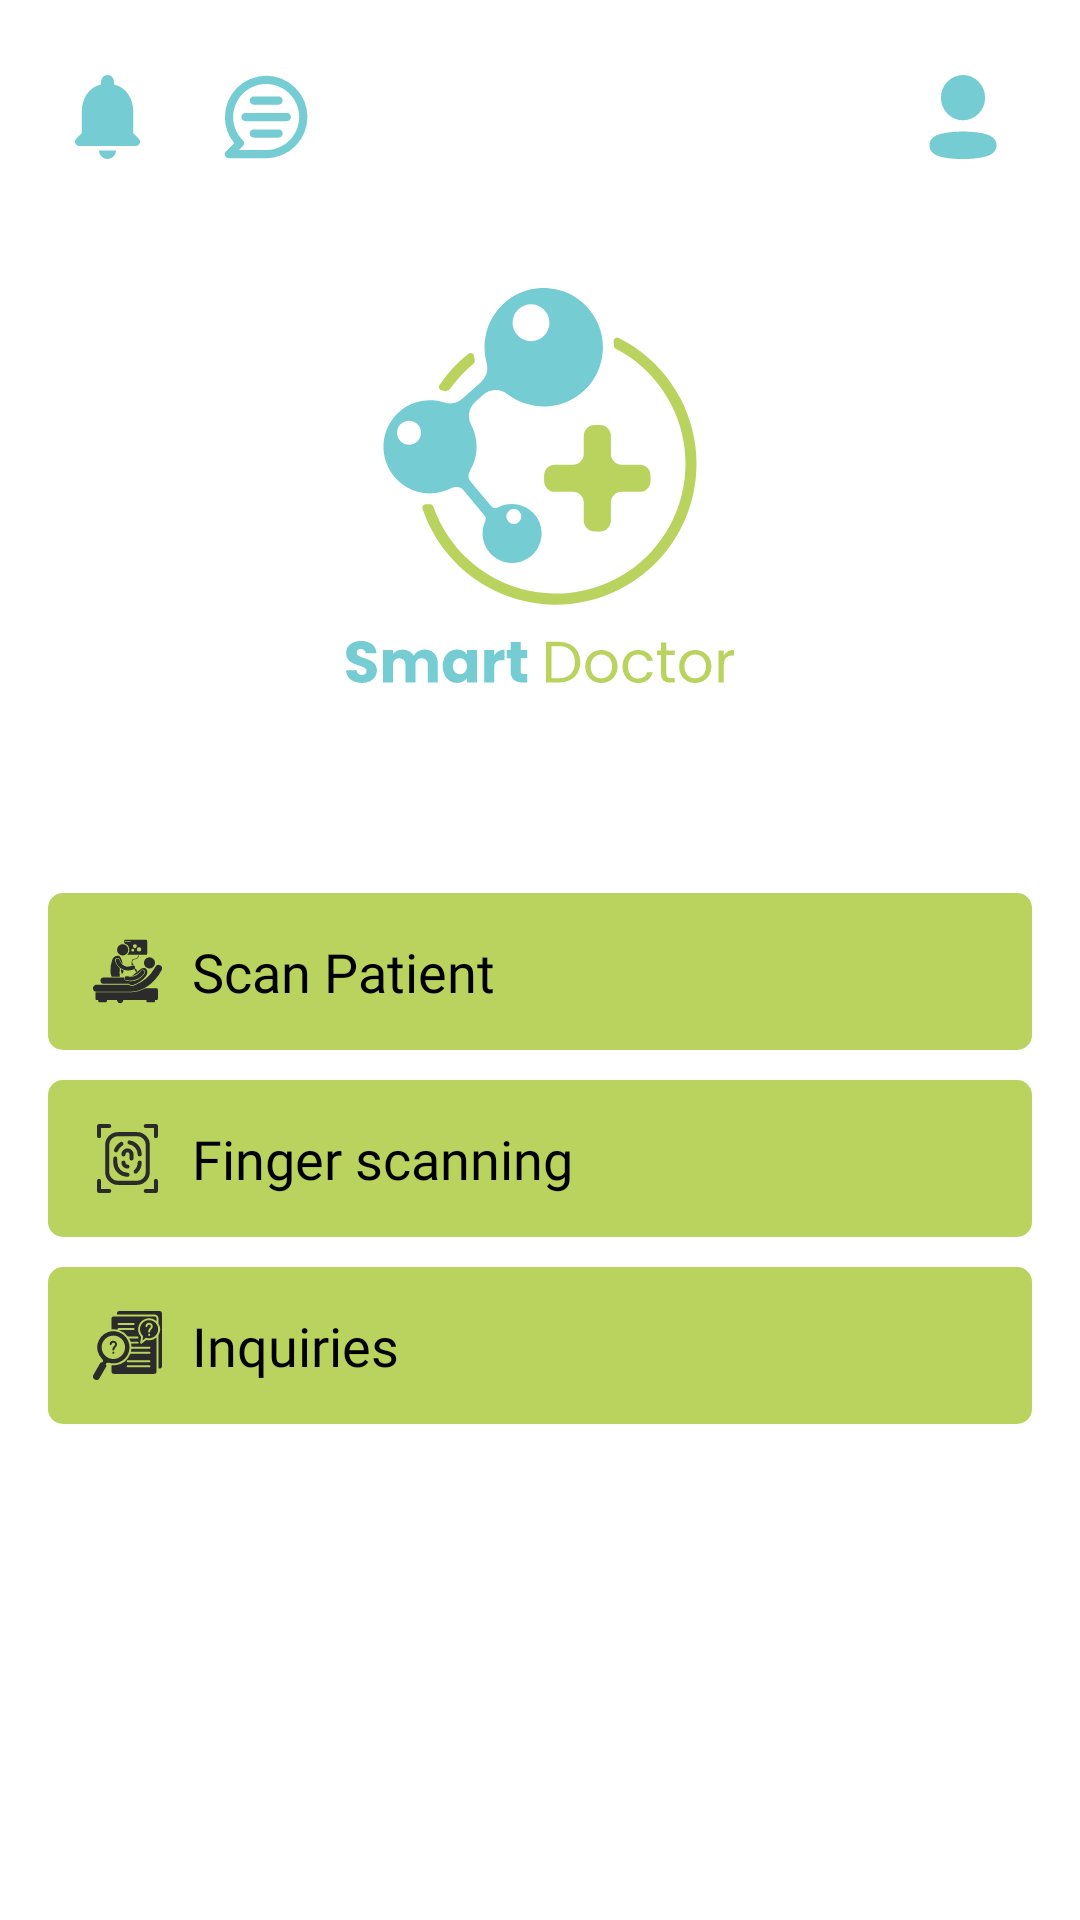

Named icons in this screenshot (1080x1920) and their centers, (x,y):
chat: (266,117)
notification: (107,117)
profile: (963,117)
